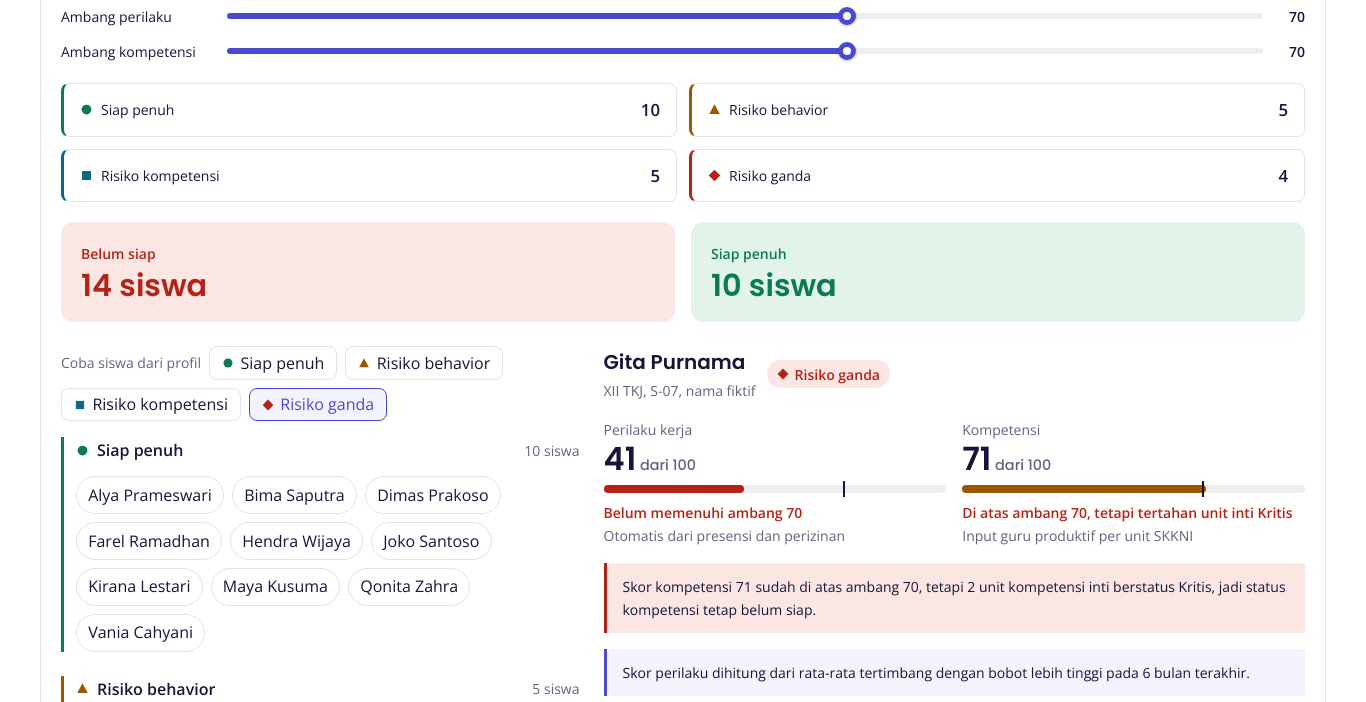
panggung demo: interaksi setelah selesai › memilih siswa lain memperbarui diagnosis, persiapan, dan penempatan serempak
The image size is (1366, 702).
(page scrolled)
Click the button "Siap penuh" at (273, 363), box x1=209 y1=346 x2=337 y2=380
(page scrolled)
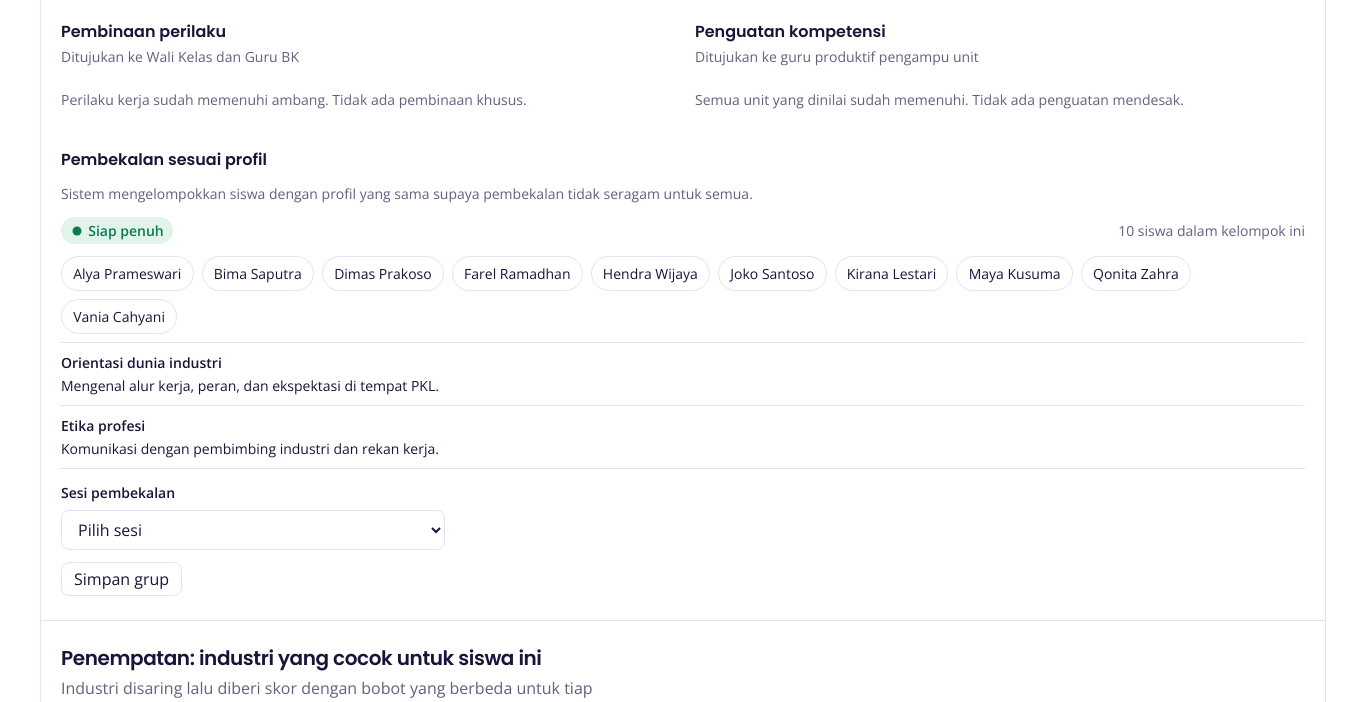
Expected: the text "Pembekalan sesuai profil" is shown, x1=61 y1=148 x2=267 y2=171
Expected: the text "Orientasi dunia industri" is shown, x1=61 y1=353 x2=222 y2=372
